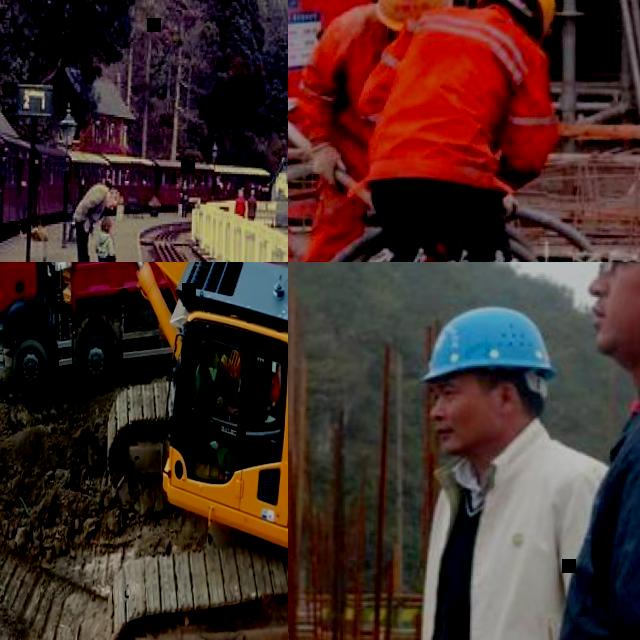helmet: (418, 306, 558, 384), (472, 0, 558, 33), (373, 0, 457, 30)
machinery: (0, 262, 288, 640), (0, 262, 288, 396)
no_helmet: (102, 217, 114, 230), (112, 189, 120, 205), (238, 188, 244, 194), (251, 190, 255, 194)
no_mask: (592, 284, 640, 362), (434, 414, 503, 454), (106, 196, 114, 210), (109, 228, 114, 234)
no_vest: (430, 454, 593, 640), (558, 381, 640, 640), (78, 184, 106, 225), (98, 232, 114, 258), (237, 197, 246, 215), (249, 197, 257, 217), (234, 382, 240, 408)
person: (415, 301, 616, 640), (352, 0, 567, 262), (299, 0, 469, 262), (558, 262, 640, 640), (202, 354, 244, 448), (72, 181, 119, 262), (95, 215, 120, 262), (235, 188, 247, 216), (247, 190, 258, 220)
vest: (371, 6, 540, 187), (317, 9, 397, 169), (266, 372, 282, 414)
